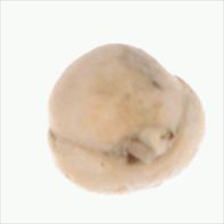L3: (118, 123, 180, 169)
L4: (48, 43, 205, 195)
